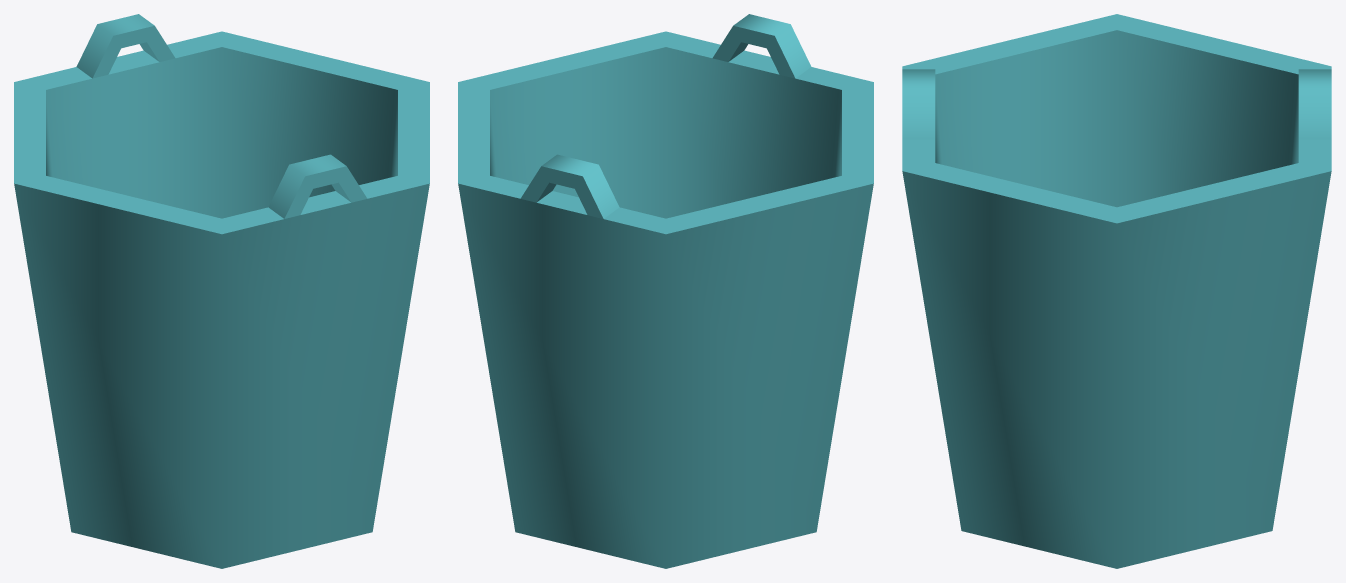
The model's file is SM_Bucket.fbx.
The picture shows the model from 3 angles, left to right: view 1: azimuth 30°, elevation 25°; view 2: azimuth 150°, elevation 25°; view 3: azimuth 270°, elevation 25°; orthographic projection. The views are drawn at different scales.
Visible parts, largest first — view 1: Bucket, BucketHandles; view 2: Bucket, BucketHandles; view 3: Bucket, BucketHandles.
Part boxes in pixels (box(x1,y1,x2,y2)): Bucket: box(14, 31, 429, 568); BucketHandles: box(76, 14, 367, 218); Bucket: box(458, 31, 873, 568); BucketHandles: box(520, 14, 811, 218); Bucket: box(902, 14, 1331, 568); BucketHandles: box(902, 69, 1331, 139).
Bounding box in the file's own units: 30 × 27.6 × 25.98.
